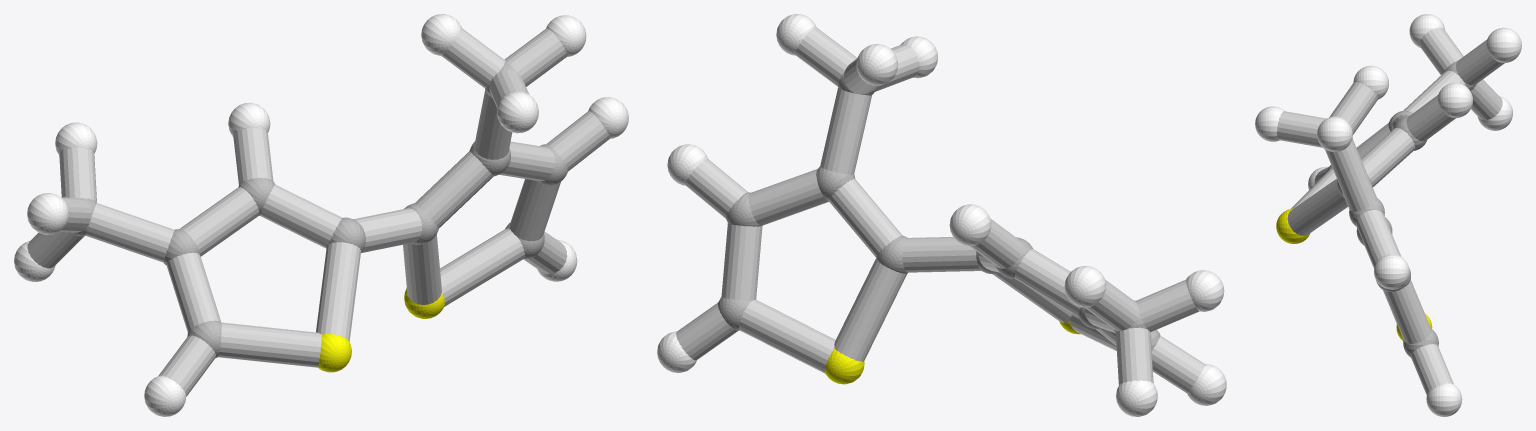
The model's file is Methylthiophene_Phi_30_Theta_250_Methylthiophene.glb.
The picture shows the model from 3 angles, left to right: view 1: azimuth 30°, elevation 25°; view 2: azimuth 150°, elevation 25°; view 3: azimuth 270°, elevation 25°; orthographic projection. The views are drawn at different scales.
Parts seen in each view (by area): view 1: grp7965, grp3621, grp1, grp7241; view 2: grp7965, grp3621, grp1, grp7241; view 3: grp7965, grp3621, grp1, grp7241.
Boxes of the visible parts, box(x1,y1,x2,y2) form: grp7965: box(27, 28, 609, 396); grp3621: box(14, 14, 628, 416); grp1: box(71, 61, 567, 357); grp7241: box(318, 288, 444, 372); grp7965: box(676, 27, 1205, 392); grp3621: box(657, 14, 1226, 416); grp1: box(718, 73, 1160, 351); grp7241: box(824, 321, 1080, 384); grp7965: box(1277, 27, 1504, 395); grp3621: box(1255, 14, 1521, 416); grp1: box(1322, 61, 1476, 357); grp7241: box(1276, 208, 1432, 340).
Bounding box in the file's own units: 9.45 × 5.24 × 4.48.
